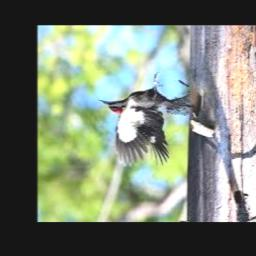Woodpecker: (98, 72, 195, 167)
